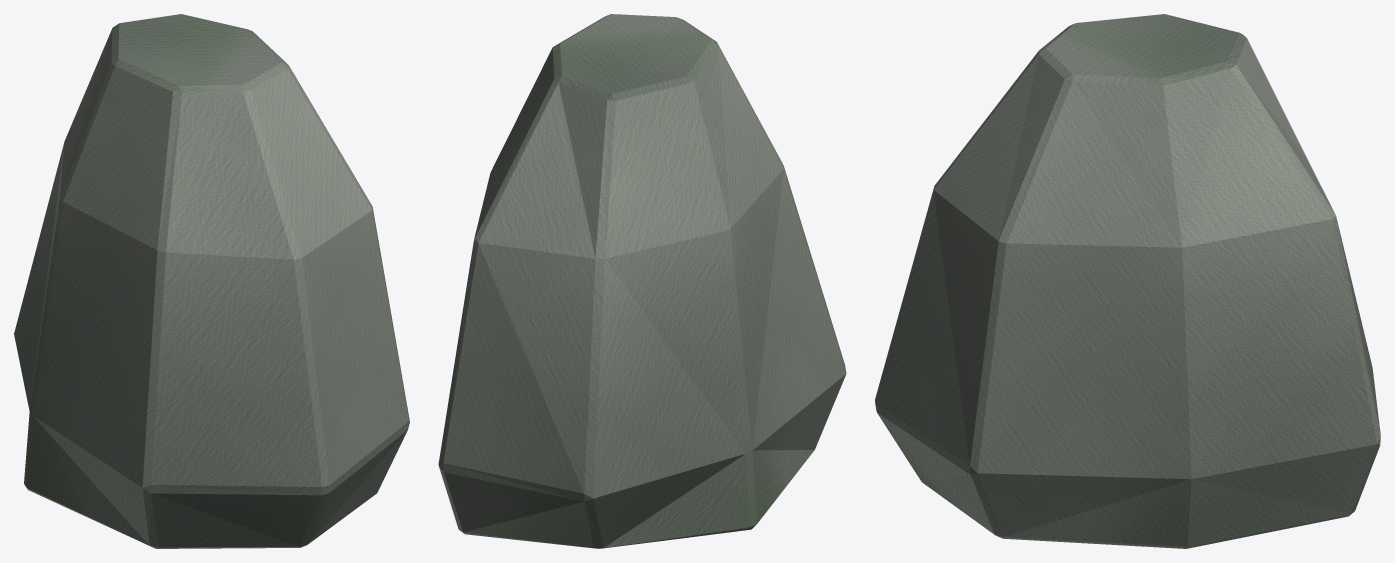
File: v03_rock_0_lod1.fbx
3 views of the same model, side by side, from view 1: azimuth 30°, elevation 25°; view 2: azimuth 150°, elevation 25°; view 3: azimuth 270°, elevation 25° (orthographic). The views are drawn at different scales.
Visible parts, largest first — view 1: v03_rock_0.004; view 2: v03_rock_0.004; view 3: v03_rock_0.004.
Part boxes in pixels (x1,y1,x2,y2): v03_rock_0.004: (14,14,409,548); v03_rock_0.004: (438,14,846,548); v03_rock_0.004: (875,14,1380,548).
Size of the model in its own units: 9456 by 6564 by 9000.
